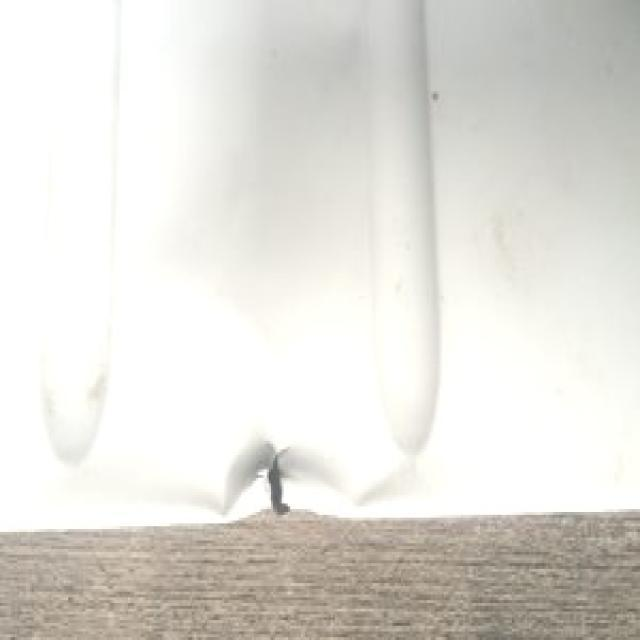crack: (254, 432, 299, 518)
